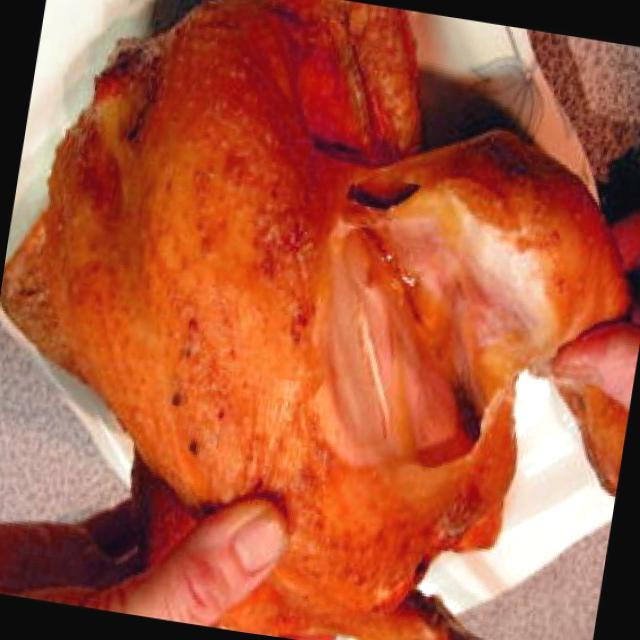Chicken: (0, 0, 621, 620)
Finger: (135, 481, 296, 636)
